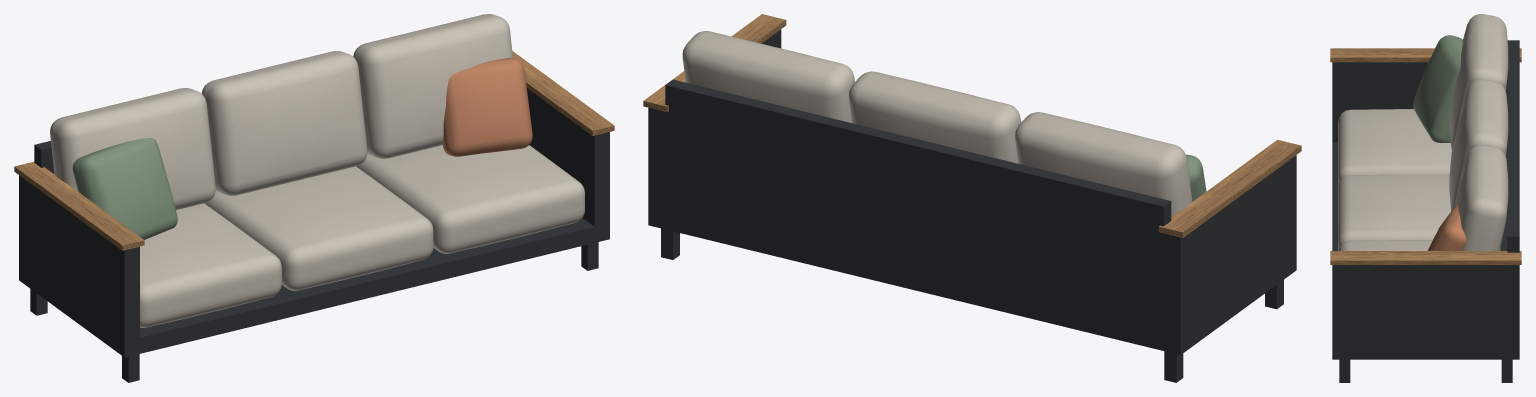
The model's file is sofa.glb.
3 renders of one model, left to right at view 1: azimuth 30°, elevation 25°; view 2: azimuth 150°, elevation 25°; view 3: azimuth 270°, elevation 25°, orthographic. The views are drawn at different scales.
Parts seen in each view (by area): view 1: fabric, frame.002, accent2, accent.001, teak; view 2: frame.002, fabric, teak, accent.001; view 3: fabric, frame.002, teak, accent.001, accent2.
Boxes of the visible parts, box(x1,y1,x2,y2) form: fabric: box(50, 14, 584, 327); frame.002: box(19, 88, 609, 382); accent2: box(442, 58, 532, 156); accent.001: box(72, 138, 177, 239); teak: box(14, 51, 614, 250); frame.002: box(648, 29, 1296, 382); fabric: box(682, 31, 1192, 216); teak: box(643, 14, 1301, 237); accent.001: box(1186, 154, 1206, 201); fabric: box(1338, 14, 1508, 251); frame.002: box(1332, 40, 1519, 382); teak: box(1330, 48, 1521, 264); accent.001: box(1413, 35, 1462, 142); accent2: box(1427, 204, 1466, 251).
Bounding box in the file's own units: 2.23 × 0.856 × 0.85.
Materials: 5 (4 with a texture image).
